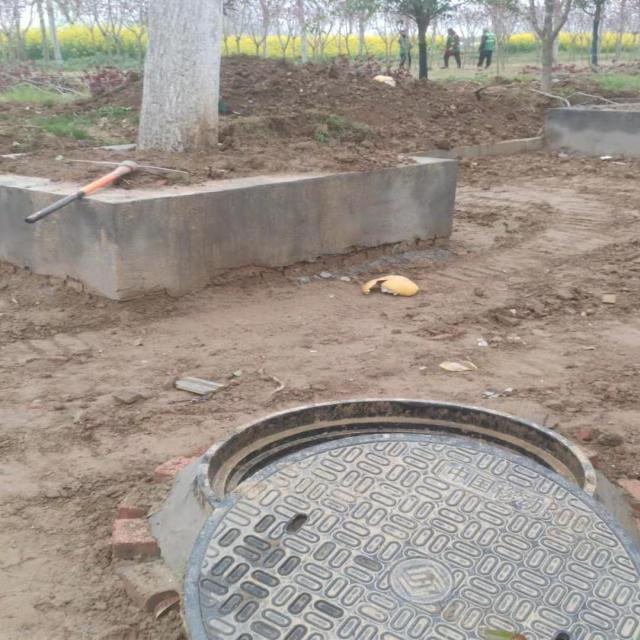Faulty: (177, 396, 632, 640)
